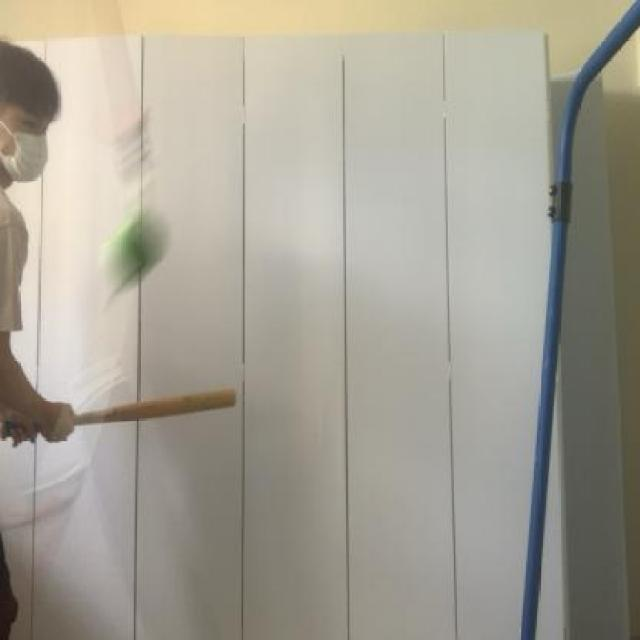baseball: (91, 207, 180, 296)
